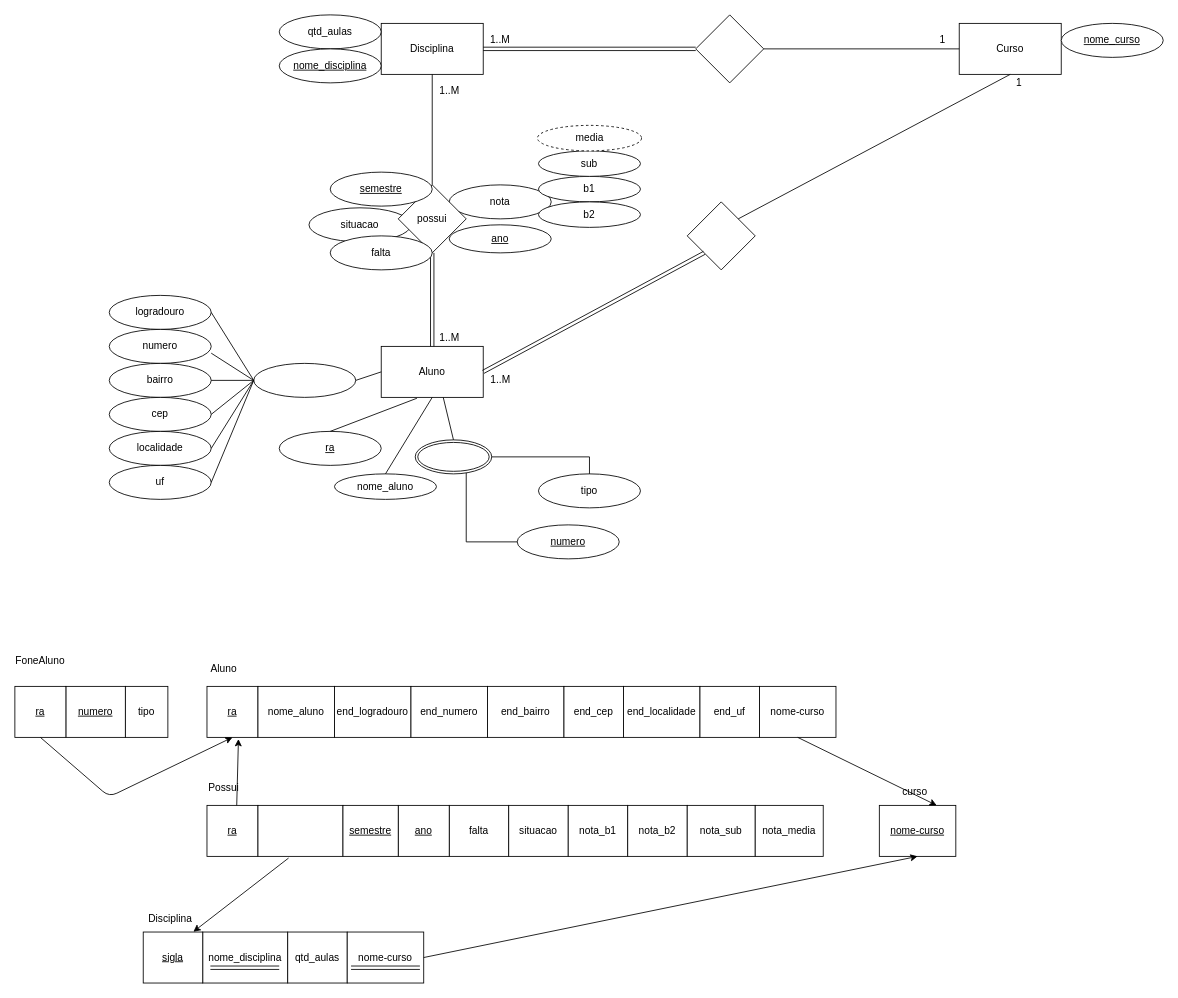
Image size: 1178x998. Some labels were removed from this diagram. Here are the shapes that lost their labels. From the top down, the centre of each, then its label:
At pixel 729 48: "oferece".
At pixel 720 235: "pertence".
At pixel 304 380: "endereco".
At pixel 453 456: "fone".
At pixel 300 830: "sigla_disciplina".
